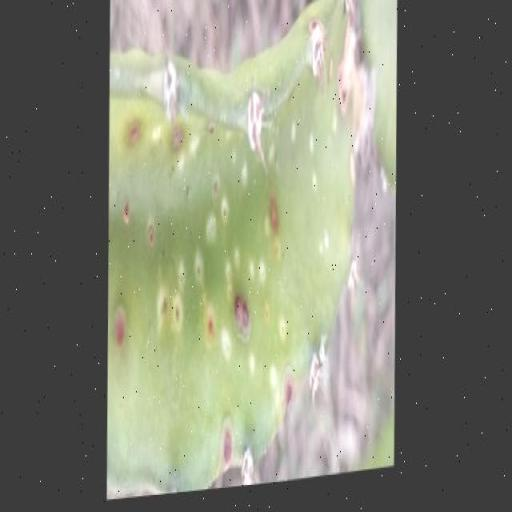stemcanker: (247, 259, 270, 287), (201, 305, 217, 344), (172, 293, 186, 336), (192, 249, 206, 285), (120, 198, 134, 230), (318, 225, 330, 259), (146, 220, 158, 252), (221, 329, 233, 361), (225, 264, 234, 306), (277, 316, 289, 347), (268, 360, 279, 392), (271, 234, 282, 266), (220, 200, 232, 228), (211, 170, 220, 204), (232, 247, 244, 271), (309, 169, 320, 192), (308, 127, 316, 157), (248, 350, 256, 379), (290, 120, 297, 145), (263, 301, 270, 326)
